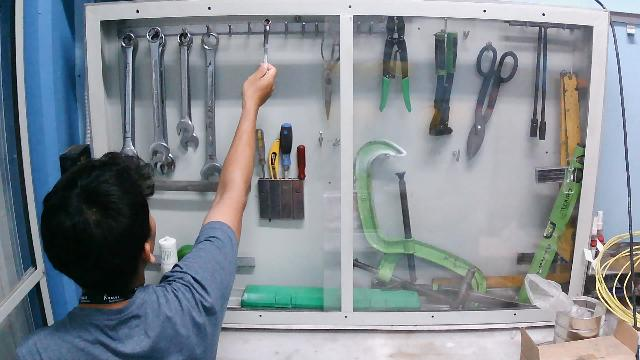kunci_pass_13: (240, 17, 291, 111)
